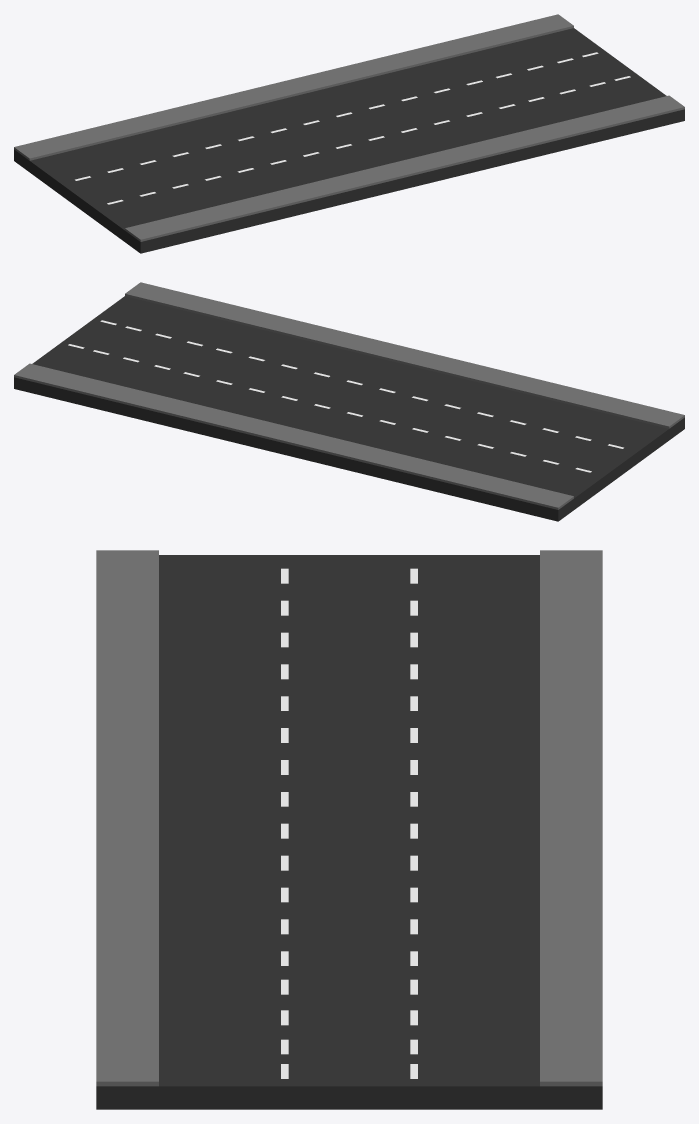
File: Cargo_Road_3_Seritli_50M.fbx
The picture shows the model from 3 angles, top to bottom: view 1: azimuth 30°, elevation 25°; view 2: azimuth 150°, elevation 25°; view 3: azimuth 270°, elevation 25°; orthographic projection. The views are drawn at different scales.
Visible parts, largest first — view 1: Cargo_Road_3_Seritli_50m_Dikey; view 2: Cargo_Road_3_Seritli_50m_Dikey; view 3: Cargo_Road_3_Seritli_50m_Dikey.
Part boxes in pixels (x1=…): Cargo_Road_3_Seritli_50m_Dikey: x1=14, y1=14, x2=684, y2=253; Cargo_Road_3_Seritli_50m_Dikey: x1=14, y1=282, x2=684, y2=521; Cargo_Road_3_Seritli_50m_Dikey: x1=96, y1=550, x2=602, y2=1109.
Bounding box in the file's own units: 5000 × 123 × 2015.
